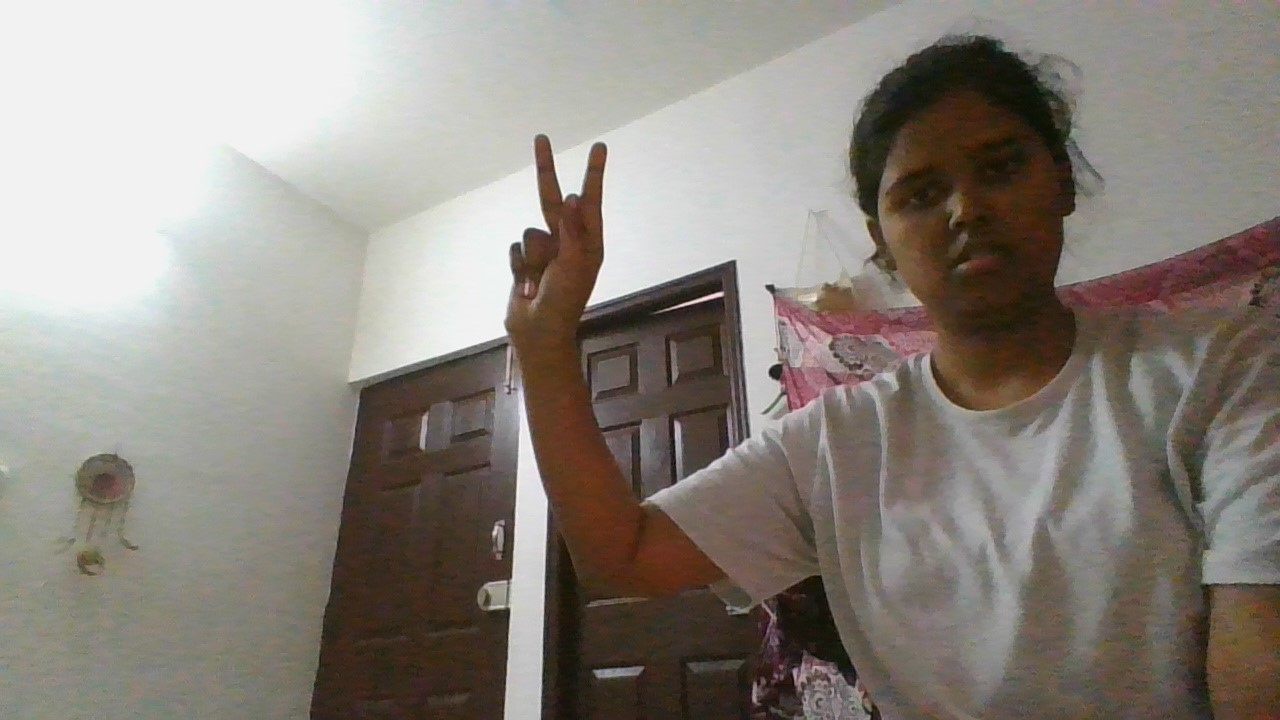k: (490, 130, 614, 363)
